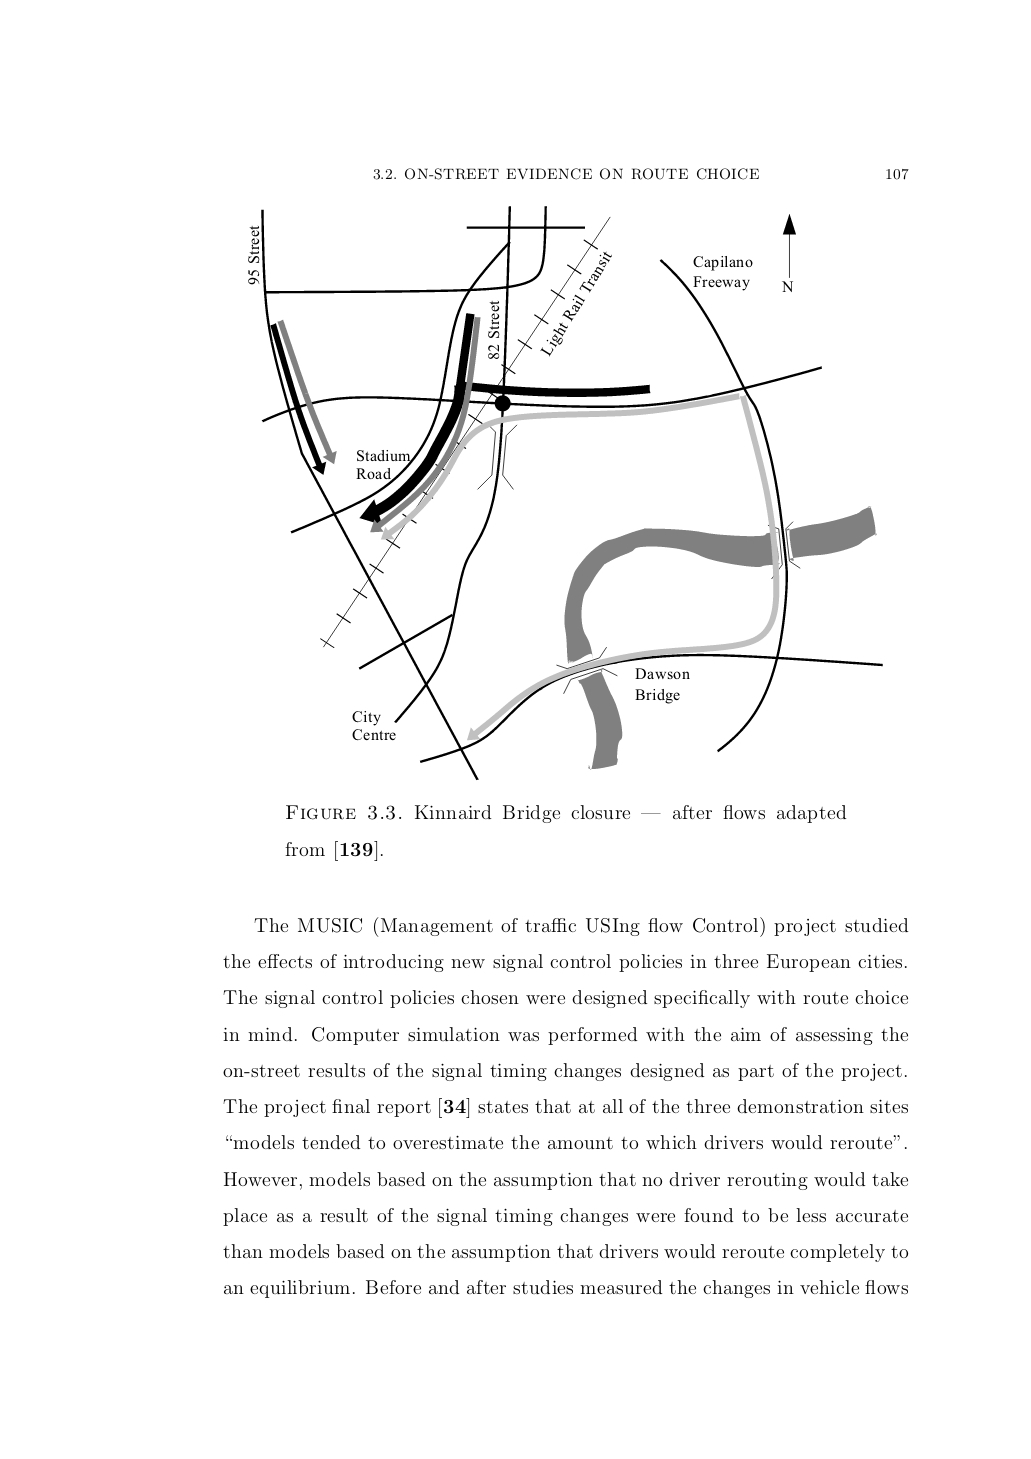figure: (248, 205, 881, 781)
